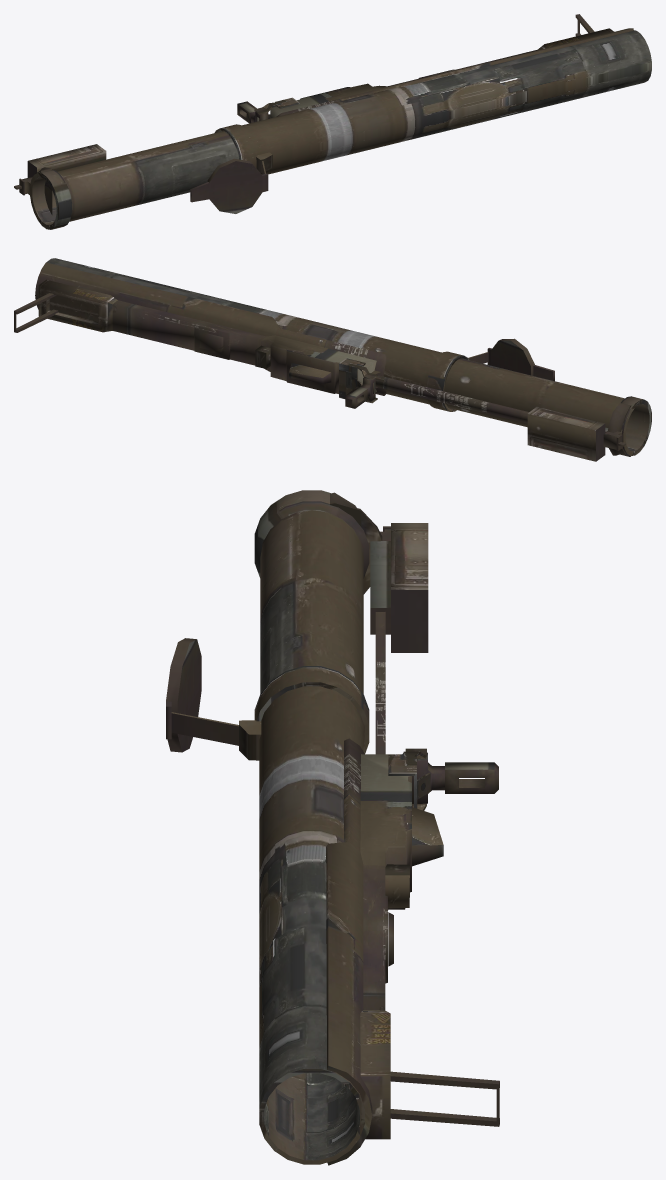
The model's file is t5_weapon_law_world.glb.
The picture shows the model from 3 angles, top to bottom: view 1: azimuth 30°, elevation 25°; view 2: azimuth 150°, elevation 25°; view 3: azimuth 270°, elevation 25°; orthographic projection. The views are drawn at different scales.
Visible parts, largest first — view 1: t5_weapon_law_world; view 2: t5_weapon_law_world; view 3: t5_weapon_law_world.
Boxes of the visible parts, bbox=[...] form: t5_weapon_law_world: bbox=[14, 14, 651, 229]; t5_weapon_law_world: bbox=[14, 258, 651, 461]; t5_weapon_law_world: bbox=[166, 490, 499, 1165].
Bounding box in the file's own units: 0.7941 × 0.067 × 0.1926.
1 material, 1 textured.
